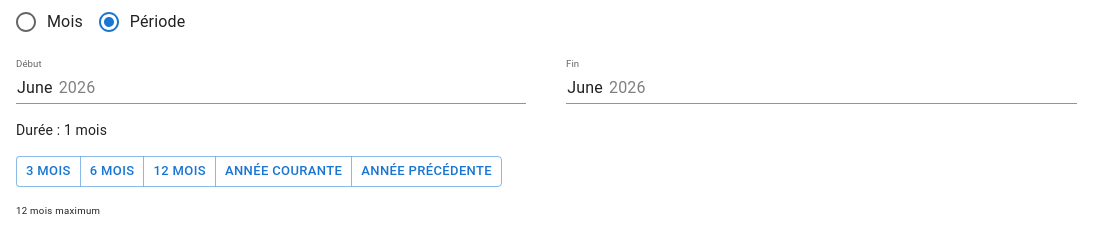
it: AnalysesFiltrePeriodeComponent › raccourcis de période › "Année précédente" hors intervalle : retombe sur tout l intervalle disponible
Click the button "Année précédente" at (427, 171), box 351,156 -> 502,187
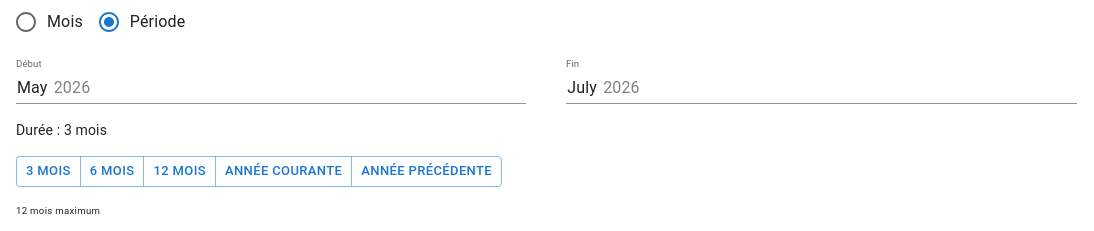
expect the field labelled "Début" holds "2026-05": met, box 16,75 -> 526,104
expect the field labelled "Fin" holds "2026-07": met, box 566,75 -> 1077,104
